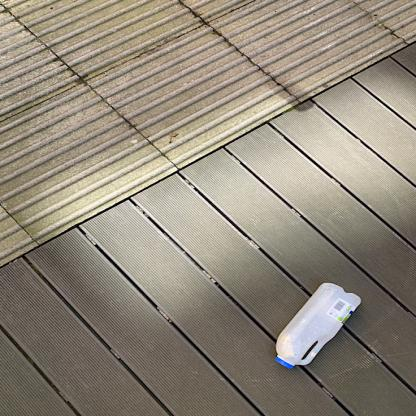trash: (270, 280, 360, 370)
